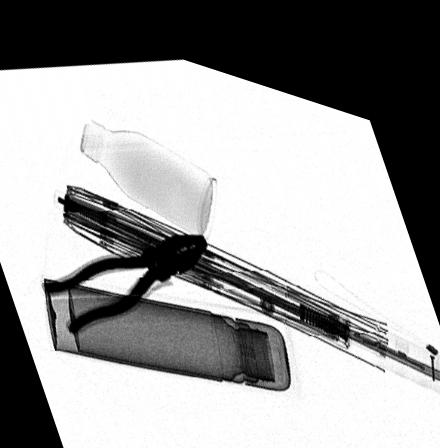Pliers: (42, 220, 207, 332)
